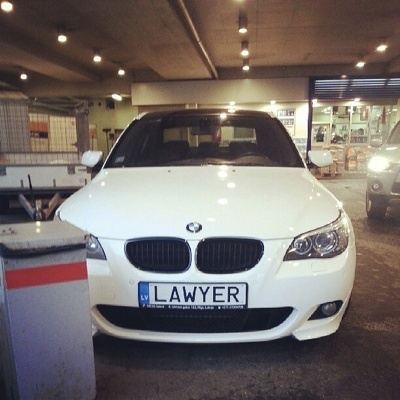plaka: (137, 281, 249, 310)
